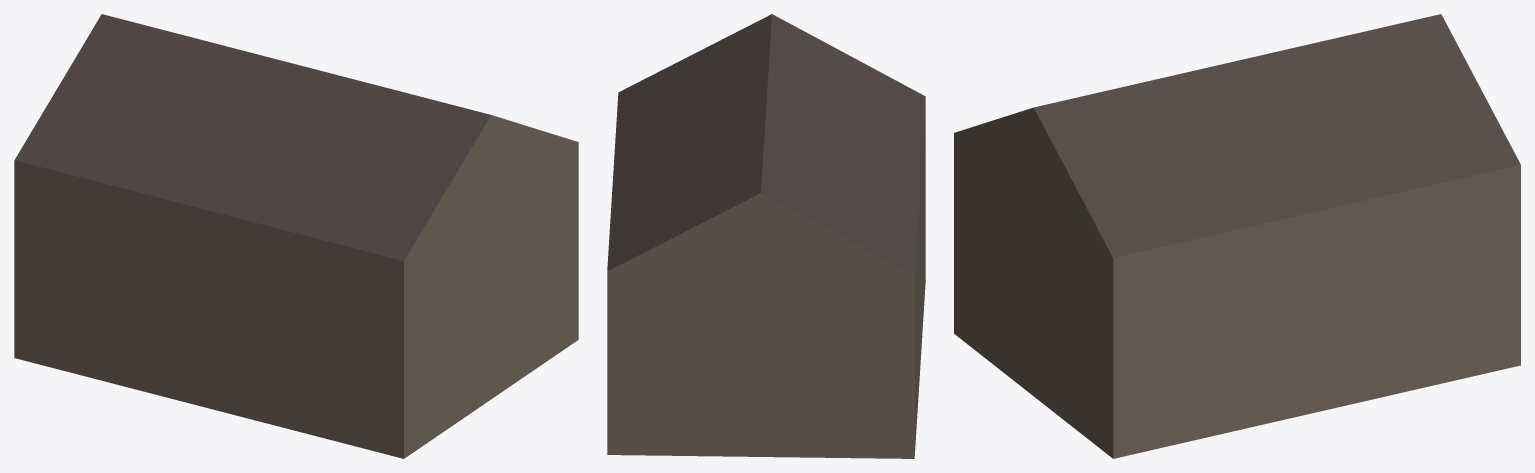
3 views of the same model, side by side, from view 1: azimuth 30°, elevation 25°; view 2: azimuth 150°, elevation 25°; view 3: azimuth 270°, elevation 25° (orthographic). The views are drawn at different scales.
Visible parts, largest first — view 1: HP-w369317563; view 2: HP-w369317563; view 3: HP-w369317563.
Boxes of the visible parts, x1,y1,x2,y2 form: HP-w369317563: [14, 14, 578, 458]; HP-w369317563: [607, 14, 925, 458]; HP-w369317563: [954, 14, 1520, 458].
Bounding box in the file's own units: 14.03 × 8.63 × 15.36.
